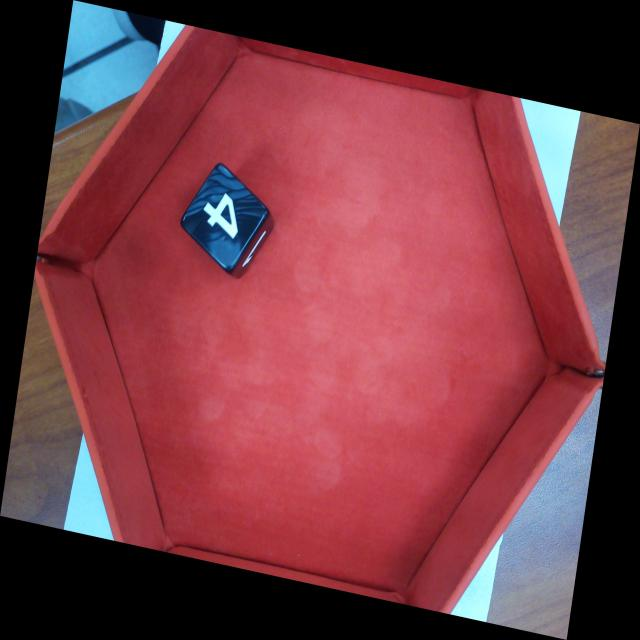dice: (178, 162, 269, 272)
